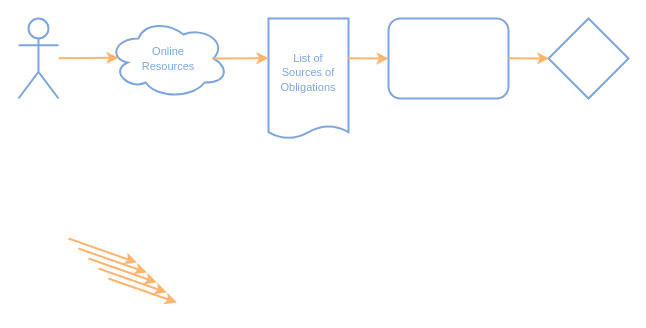
Some shapes in this 646 by 328 pixel diagram are drawn without their labels. Here are the shapes that lost their labels. From the top down, the centre of each, then its label:
the point at 38,58: Expert
the point at 448,58: Briefly review each one and assess the risk
